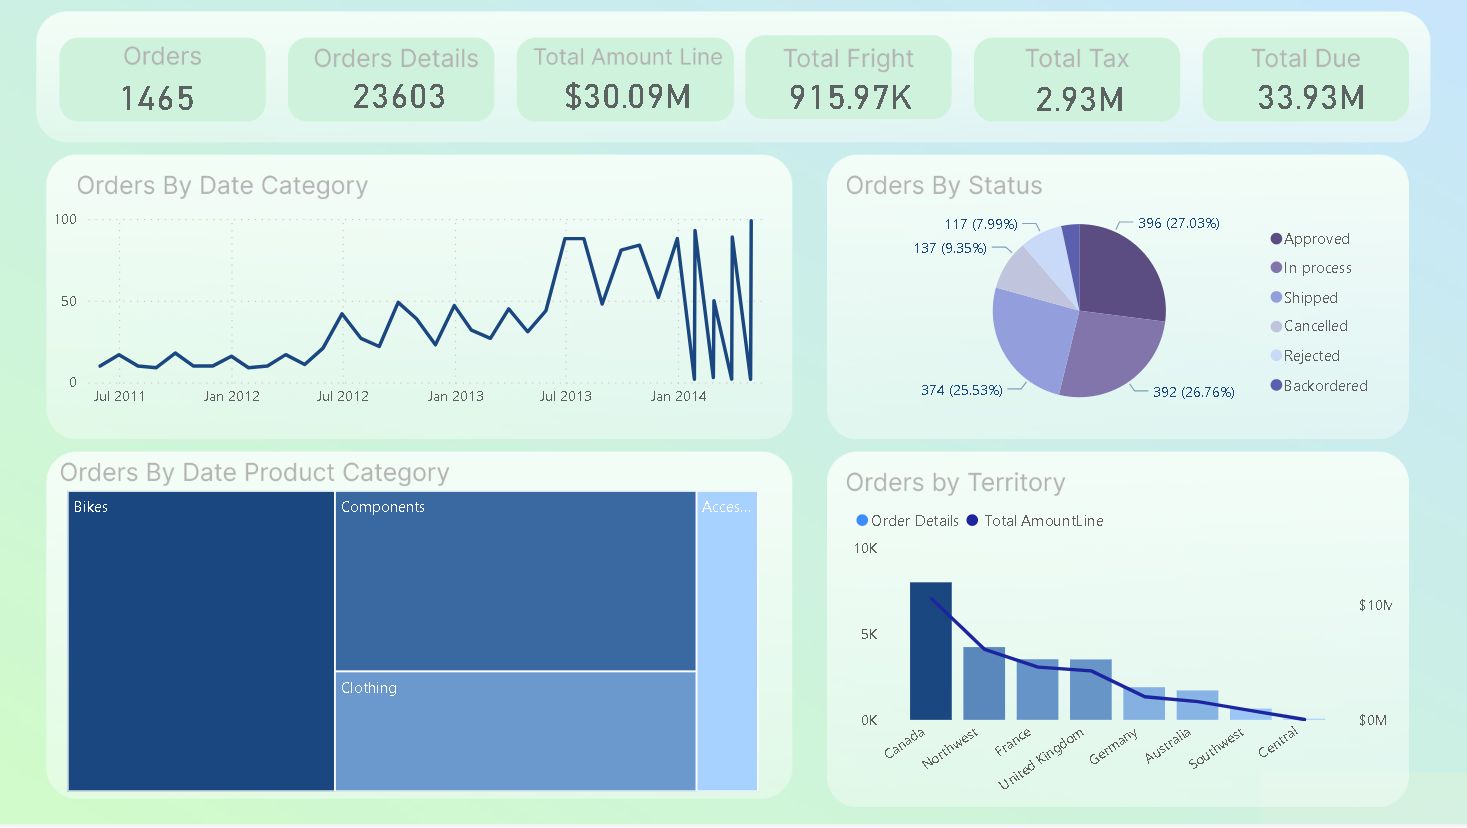

The dashboard page shown, as its layout file describes it:
{"tool":"powerbi","page":{"name":"Sales","canvas":[1280,720],"ordinal":0},"visuals":[{"type":"card","title":"Orders Details","fields":{"Values":["Dax Measure.# Order Details"]},"box":[273.8,65,155,43.8],"z":0},{"type":"card","title":"Orders","fields":{"Values":["Dax Measure.# Oreders"]},"box":[67.5,68.8,147.5,38.8],"z":1000},{"type":"card","title":"Total Amount Line","fields":{"Values":["Dax Measure.# Total AmountLine"]},"box":[475,65,146.2,43.8],"z":2000},{"type":"card","title":"Total Fright","fields":{"Values":["Dax Measure.# Total Fright"]},"box":[656.2,66.2,170,42.5],"z":3000},{"type":"card","title":"Total Tax","fields":{"Values":["Dax Measure.# Total TAx"]},"box":[850,68.8,180,41.2],"z":4000},{"type":"card","title":"Total Due","fields":{"Values":["Dax Measure.#Total Due"]},"box":[1055,66.2,170,42.5],"z":5000},{"type":"lineChart","fields":{"Y":["Dax Measure.# Oreders"],"Category":["Sales.OrderDate.Variation.Date Hierarchy.Year","Sales.OrderDate.Variation.Date Hierarchy.Quarter","Sales.OrderDate.Variation.Date Hierarchy.Month","Sales.OrderDate.Variation.Date Hierarchy.Day"]},"box":[48.8,181.2,633.8,187.5],"z":6000},{"type":"treemap","fields":{"Group":["Sales.ProductCategory","Sales.ProductSubCategory","Sales.Product"],"Values":["Dax Measure.# Order Details"]},"box":[58.8,426.2,607.5,270],"z":7000},{"type":"pieChart","fields":{"Category":["Sales.Status"],"Y":["Dax Measure.# Oreders"]},"box":[771.2,171.2,435,208.8],"z":8000},{"type":"lineClusteredColumnComboChart","fields":{"Category":["Sales.Territory"],"Y":["Dax Measure.# Order Details"],"Y2":["Dax Measure.# Total AmountLine"]},"box":[741.2,436.2,475,270],"z":9000}]}

Visuals, with their boxes in screenshot pixels (x1, y1, x2, y2), scaled from the page's 1280x720 canvas onto the 1467x828 screenshot:
"Orders Details" card: <region>314, 75, 491, 125</region>
"Orders" card: <region>77, 79, 246, 124</region>
"Total Amount Line" card: <region>544, 75, 712, 125</region>
"Total Fright" card: <region>752, 76, 947, 125</region>
"Total Tax" card: <region>974, 79, 1180, 126</region>
"Total Due" card: <region>1209, 76, 1404, 125</region>
lineChart - Dax Measure.# Oreders x Sales.OrderDate.Variation.Date Hierarchy.Year: <region>56, 208, 782, 424</region>
treemap - Sales.ProductCategory x Sales.ProductSubCategory: <region>67, 490, 764, 801</region>
pieChart - Sales.Status x Dax Measure.# Oreders: <region>884, 197, 1382, 437</region>
lineClusteredColumnComboChart - Sales.Territory x Dax Measure.# Order Details: <region>849, 502, 1394, 812</region>
